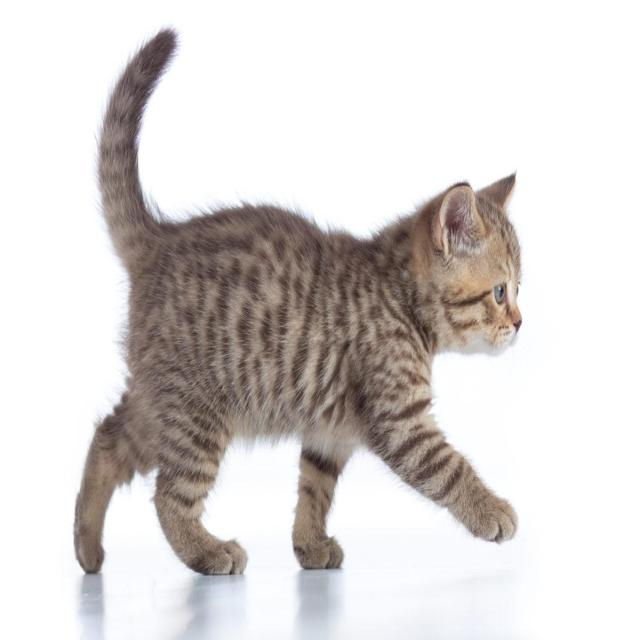Cat: (423, 160, 534, 366)
